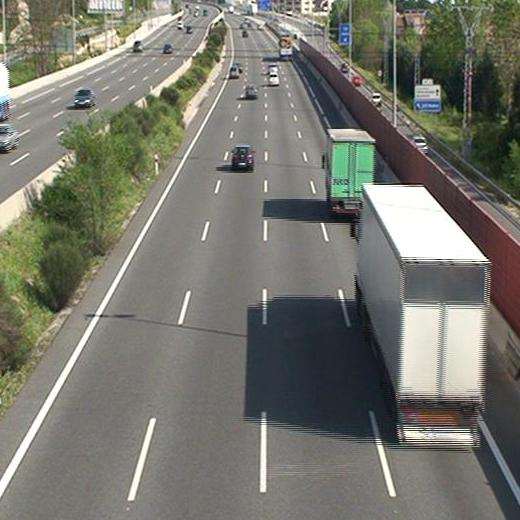car: (231, 145, 253, 170), (245, 83, 258, 98), (268, 73, 279, 85), (229, 66, 239, 78), (266, 63, 276, 71)
small-truck: (322, 130, 375, 213)
truck: (355, 184, 492, 450), (278, 33, 292, 58)
